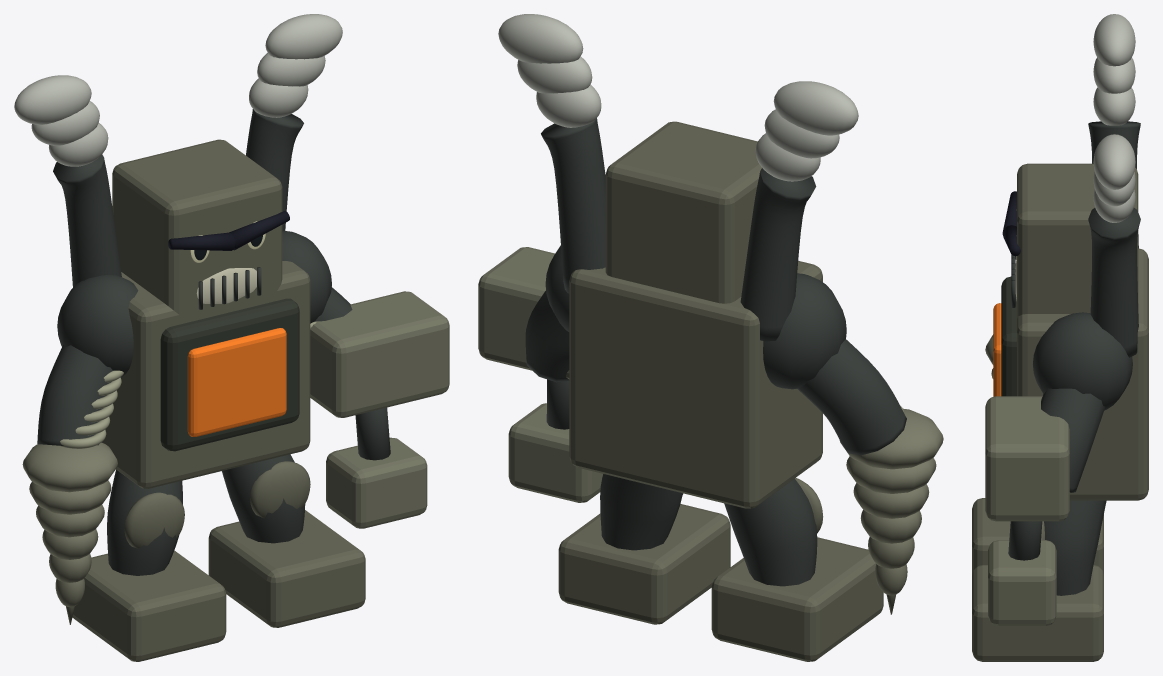
The model's file is mechagrin.glb.
3 renders of one model, left to right at view 1: azimuth 30°, elevation 25°; view 2: azimuth 150°, elevation 25°; view 3: azimuth 270°, elevation 25°, orthographic. The views are drawn at different scales.
Parts seen in each view (by area): view 1: helmet head, riveted torso, hammer block, block metal foot.001, block metal foot, square furnace housing, orange furnace, hammer butt, shoulder joint, shoulder smokestack, arm axle, bent mechanical leg (+22 smaller); view 2: riveted torso, helmet head, block metal foot, block metal foot.001, shoulder smokestack, shoulder smokestack.001, arm axle, bent mechanical leg, hammer block, shoulder joint, hammer butt, bent mechanical leg.001 (+15 smaller); view 3: helmet head, hammer block, riveted torso, block metal foot.001, shoulder joint.001, shoulder smokestack.001, hammer butt, bent mechanical leg.001, arm axle.001, exhaust steam.005, block metal foot, exhaust steam.002 (+10 smaller).
Part boxes in pixels (bbox=[...]): helmet head: bbox=[112, 139, 282, 317]; riveted torso: bbox=[102, 261, 310, 488]; hammer block: bbox=[310, 291, 449, 417]; block metal foot.001: bbox=[208, 510, 365, 627]; block metal foot: bbox=[72, 550, 226, 661]; square furnace housing: bbox=[160, 298, 299, 451]; orange furnace: bbox=[187, 328, 286, 436]; hammer butt: bbox=[326, 437, 427, 528]; shoulder joint: bbox=[57, 274, 138, 377]; shoulder smokestack: bbox=[53, 154, 121, 287]; arm axle: bbox=[37, 344, 112, 445]; bent mechanical leg: bbox=[107, 469, 182, 575]; riveted torso: bbox=[569, 261, 822, 508]; helmet head: bbox=[605, 121, 761, 303]; block metal foot: bbox=[711, 537, 883, 661]; block metal foot.001: bbox=[558, 504, 730, 624]; shoulder smokestack: bbox=[740, 168, 816, 341]; shoulder smokestack.001: bbox=[541, 118, 605, 293]; arm axle: bbox=[797, 339, 906, 455]; bent mechanical leg: bbox=[724, 478, 817, 586]; hammer block: bbox=[478, 247, 569, 379]; shoulder joint: bbox=[763, 273, 846, 389]; hammer butt: bbox=[508, 403, 602, 502]; bent mechanical leg.001: bbox=[600, 474, 682, 550]; helmet head: bbox=[1017, 163, 1138, 318]; hammer block: bbox=[985, 396, 1069, 521]; riveted torso: bbox=[1017, 248, 1148, 500]; block metal foot.001: bbox=[972, 565, 1103, 661]; shoulder joint.001: bbox=[1033, 312, 1132, 410]; shoulder smokestack.001: bbox=[1088, 208, 1140, 357]; hammer butt: bbox=[988, 540, 1056, 625]; bent mechanical leg.001: bbox=[1044, 500, 1106, 595]; arm axle.001: bbox=[1041, 388, 1105, 492]; exhaust steam.005: bbox=[1093, 134, 1135, 189]; block metal foot: bbox=[972, 498, 1103, 574]; exhaust steam.002: bbox=[1093, 14, 1135, 66].
Size of the model in its own units: 1.41 by 1.8 by 0.5457.
